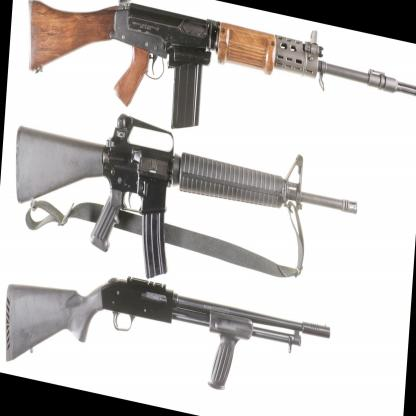rifle: (2, 90, 373, 310), (22, 0, 413, 173), (2, 252, 336, 416)
